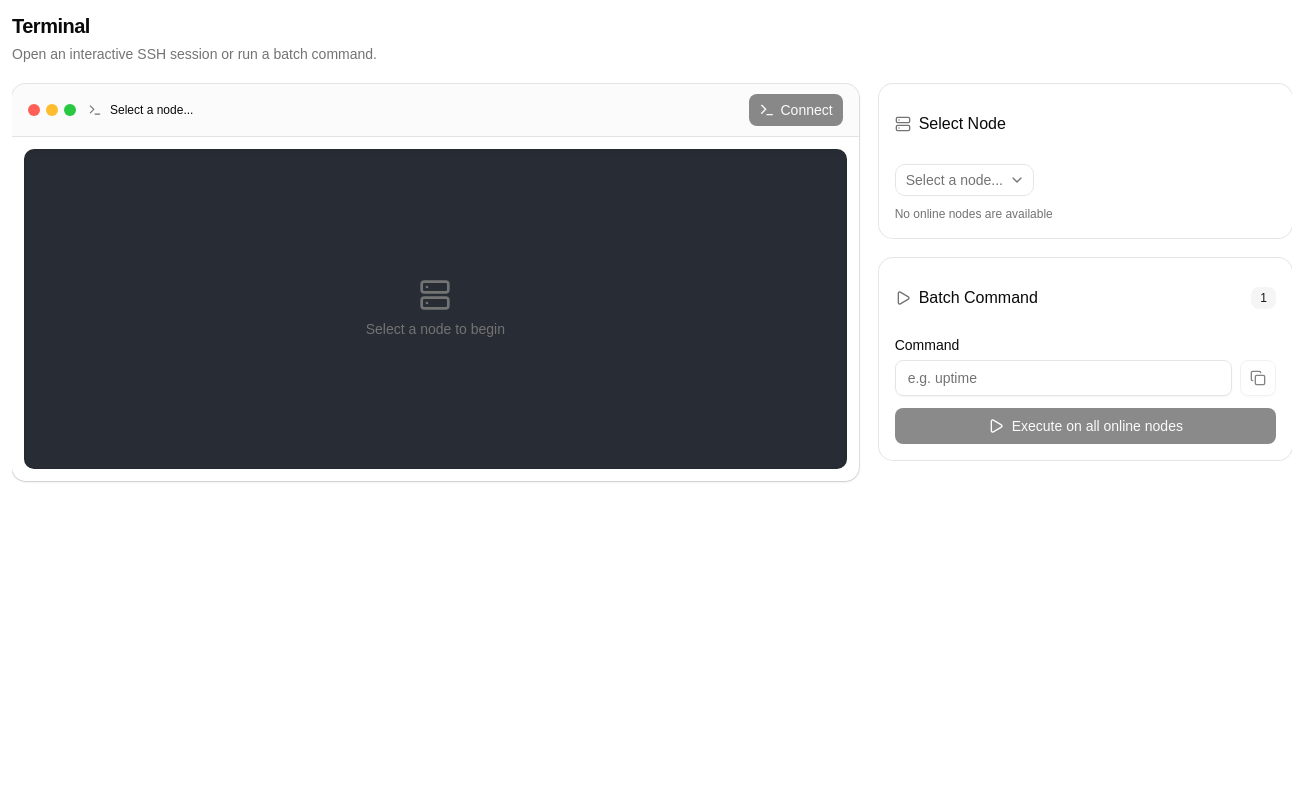
Test: admin terminal › executes a batch command and reports per-node failures
The image size is (1292, 812).
Type " uptime " into the field with placeholder "e.g. uptime" at (1063, 378), box x1=895 y1=360 x2=1232 y2=396
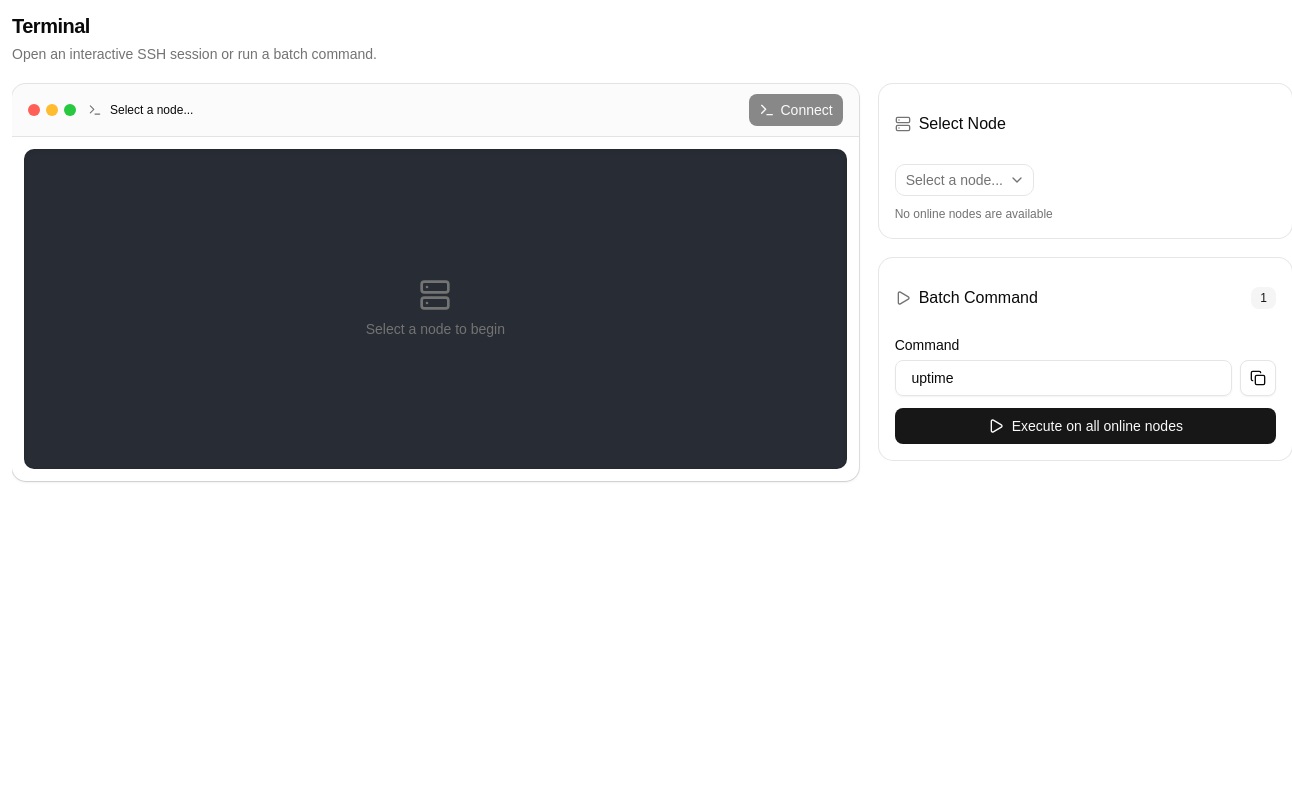
Click the button "Execute on all online nodes" at (1085, 426), box x1=895 y1=408 x2=1276 y2=444
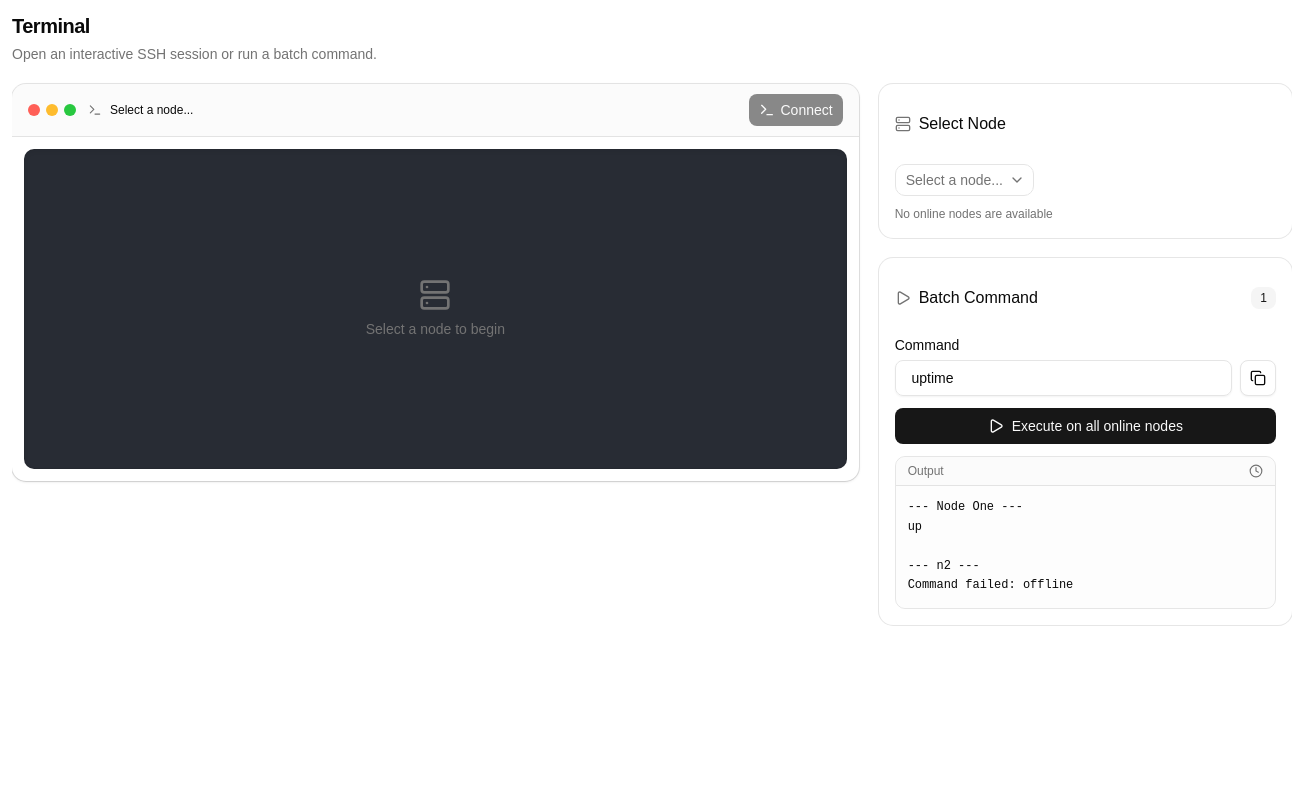
Check: the text "--- Node One --- up --- n2 --- Command failed: offline" is shown, box x1=896 y1=486 x2=1275 y2=608
